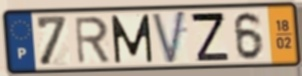6: (232, 10, 266, 61)
7: (34, 15, 71, 69)
M: (109, 13, 155, 66)
R: (73, 15, 113, 66)
V: (150, 8, 188, 67)
Z: (188, 11, 232, 63)
